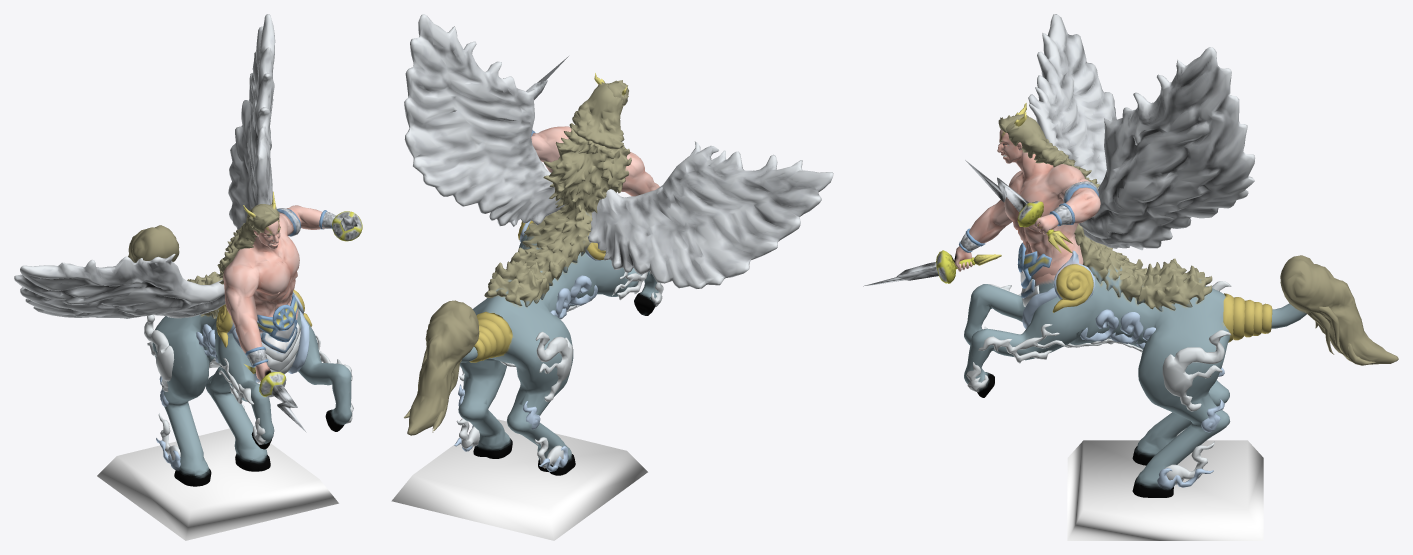
Rendered from kirin_low.fbx.
The picture shows the model from 3 angles, left to right: view 1: azimuth 30°, elevation 25°; view 2: azimuth 150°, elevation 25°; view 3: azimuth 270°, elevation 25°; orthographic projection. The views are drawn at different scales.
Visible parts, largest first — view 1: Kirin_LowPoly; view 2: Kirin_LowPoly; view 3: Kirin_LowPoly.
Part boxes in pixels (x1=…): Kirin_LowPoly: x1=14, y1=14, x2=362, y2=540; Kirin_LowPoly: x1=391, y1=14, x2=833, y2=540; Kirin_LowPoly: x1=863, y1=14, x2=1398, y2=540.
Size of the model in its own units: 0.3631 by 0.4573 by 0.4535.
